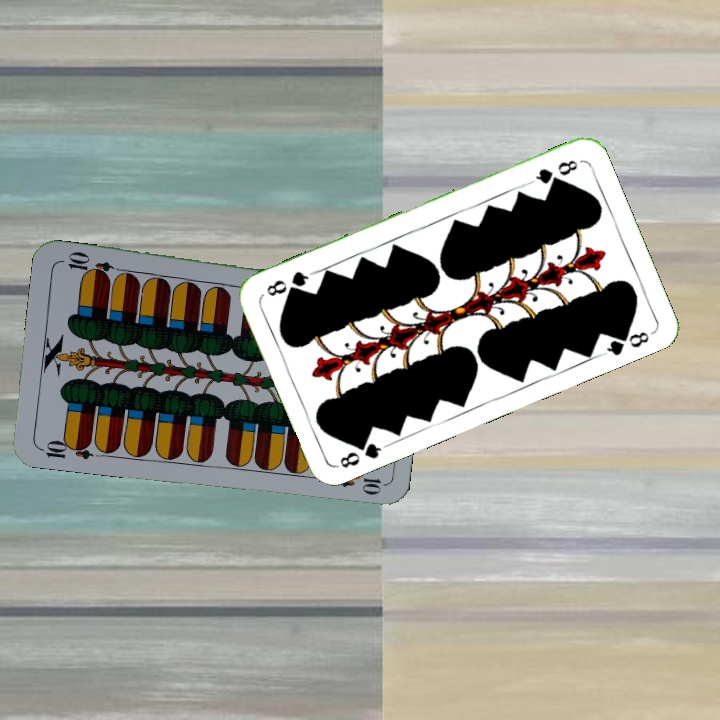E10: (36, 435, 95, 462)
G8: (331, 434, 388, 471), (526, 156, 581, 187)
